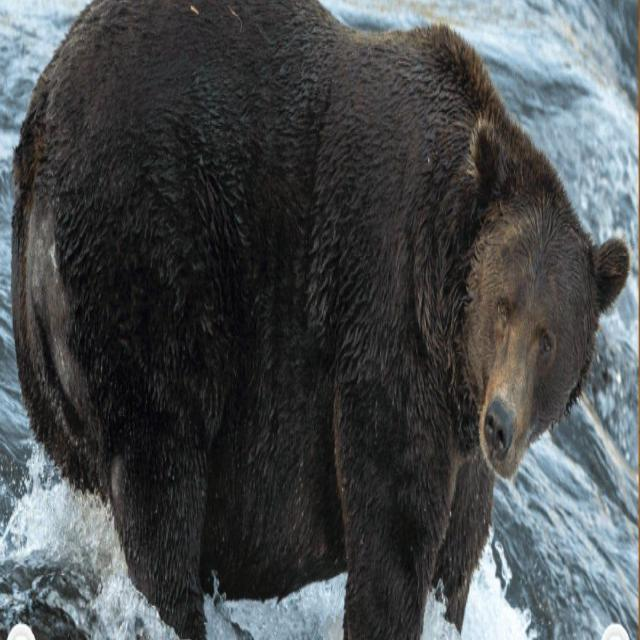Bear: (0, 0, 630, 640)
